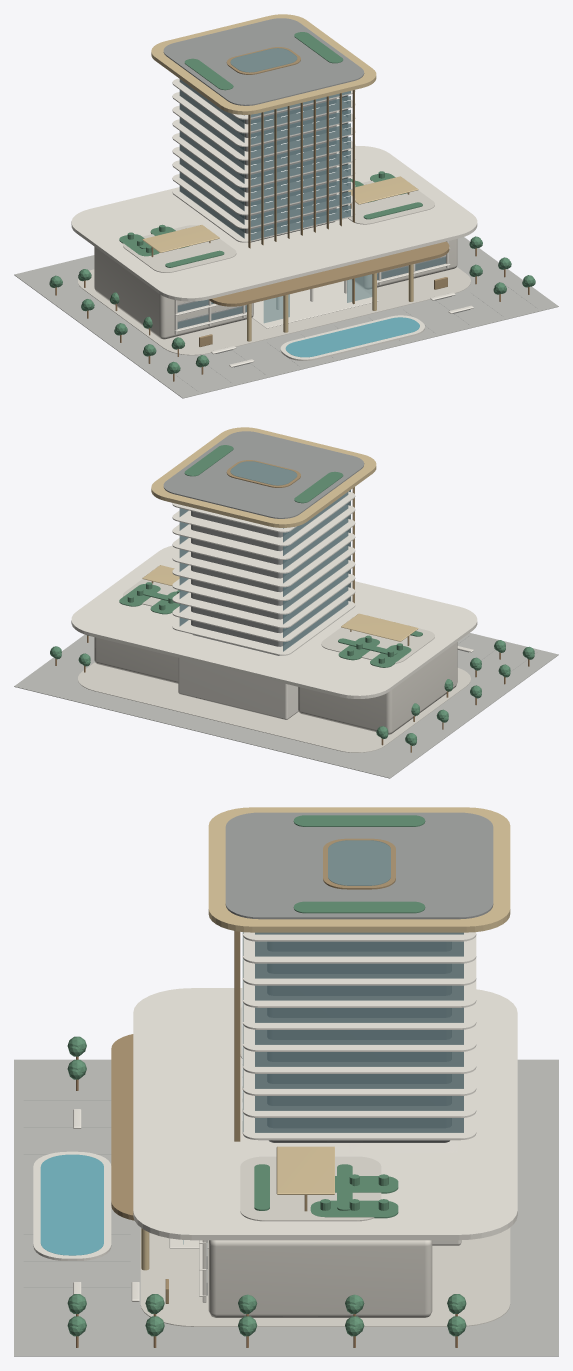
3 renders of one model, top to bottom at view 1: azimuth 30°, elevation 25°; view 2: azimuth 150°, elevation 25°; view 3: azimuth 270°, elevation 25°, orthographic. The views are drawn at different scales.
Visible parts, largest first — view 1: Deep ivory cornice, Stone city square, Crown shadow roof, Broad plinth, West stone wing, Floating crown, Cantilevered bronze portico, Atrium floor, Still water, Wing garden terrace, Tower occupied core, Wing garden terrace.001 (+29 smaller); view 2: Deep ivory cornice, Stone city square, Crown shadow roof, Broad plinth, West stone wing, Tower occupied core, Rear civic chamber, Floating crown, East stone wing, Tower floor lip.001, Tower floor lip.002, Tower floor lip.004 (+21 smaller); view 3: Deep ivory cornice, Stone city square, Crown shadow roof, East stone wing, Broad plinth, Floating crown, Still water, Cantilevered bronze portico, Wing garden terrace.001, East curtain wall.006, East curtain wall.007, East curtain wall.008 (+27 smaller).
Part boxes in pixels (x1=…): Deep ivory cornice: x1=71, y1=146, x2=477, y2=301; Stone city square: x1=14, y1=237, x2=558, y2=398; Crown shadow roof: x1=163, y1=18, x2=364, y2=105; Broad plinth: x1=78, y1=267, x2=470, y2=355; West stone wing: x1=94, y1=246, x2=253, y2=339; Floating crown: x1=151, y1=14, x2=376, y2=114; Cantilevered bronze portico: x1=208, y1=241, x2=449, y2=306; Atrium floor: x1=252, y1=280, x2=378, y2=328; Still water: x1=285, y1=317, x2=419, y2=357; Wing garden terrace: x1=123, y1=225, x2=236, y2=272; Tower occupied core: x1=244, y1=98, x2=336, y2=242; Wing garden terrace.001: x1=348, y1=177, x2=434, y2=224; Deep ivory cornice: x1=71, y1=545, x2=477, y2=698; Stone city square: x1=14, y1=633, x2=558, y2=778; Crown shadow roof: x1=163, y1=431, x2=364, y2=518; Broad plinth: x1=78, y1=662, x2=470, y2=752; West stone wing: x1=298, y1=642, x2=457, y2=734; Tower occupied core: x1=191, y1=511, x2=282, y2=655; Rear civic chamber: x1=178, y1=633, x2=298, y2=719; Floating crown: x1=151, y1=427, x2=376, y2=527; East stone wing: x1=94, y1=637, x2=178, y2=683; Tower floor lip.001: x1=172, y1=587, x2=355, y2=641; Tower floor lip.002: x1=172, y1=573, x2=355, y2=628; Tower floor lip.004: x1=172, y1=546, x2=355, y2=600; Deep ivory cornice: x1=133, y1=988, x2=517, y2=1240; Stone city square: x1=14, y1=1059, x2=558, y2=1356; Crown shadow roof: x1=225, y1=812, x2=493, y2=919; East stone wing: x1=208, y1=1240, x2=432, y2=1317; Broad plinth: x1=140, y1=1227, x2=510, y2=1326; Floating crown: x1=208, y1=807, x2=510, y2=932; Still water: x1=40, y1=1154, x2=103, y2=1255; Cantilevered bronze portico: x1=111, y1=1034, x2=134, y2=1220; Wing garden terrace.001: x1=240, y1=1156, x2=381, y2=1221; East curtain wall.006: x1=255, y1=985, x2=463, y2=1000; East curtain wall.007: x1=255, y1=963, x2=463, y2=978; East curtain wall.008: x1=255, y1=941, x2=463, y2=956.
Size of the model in its own units: 144 by 78.4 by 112.
